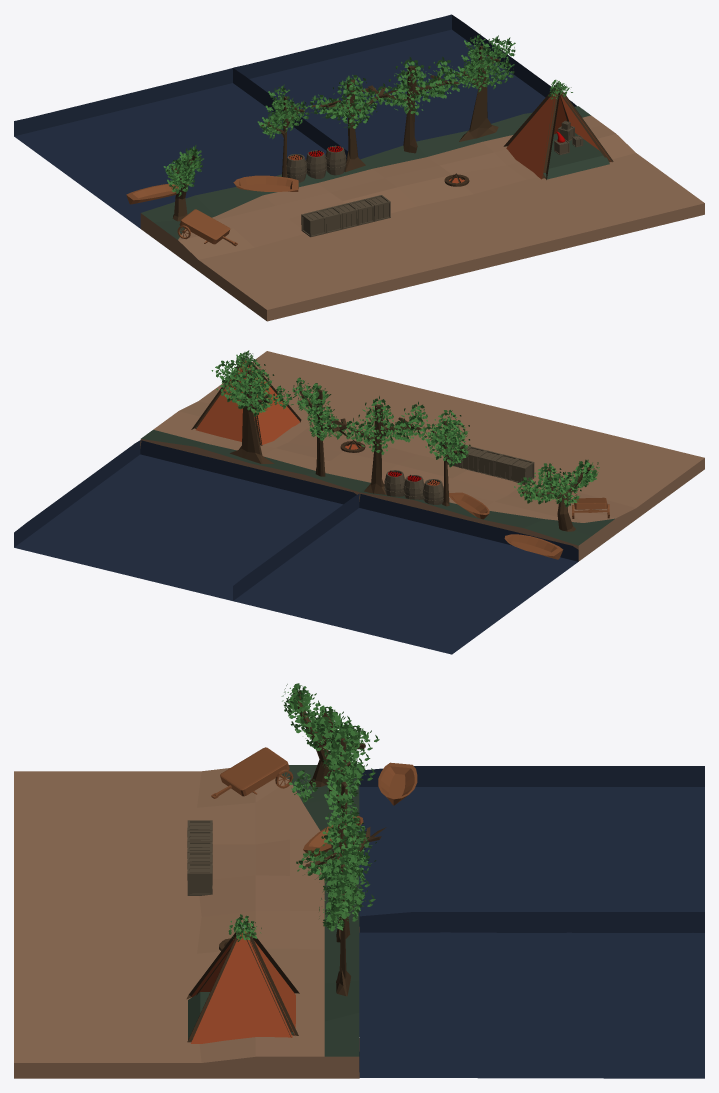
The model's file is BASE DOS CARAS 100_ OFICIAL.fbx.
3 views of the same model, one above another, from view 1: azimuth 30°, elevation 25°; view 2: azimuth 150°, elevation 25°; view 3: azimuth 270°, elevation 25° (orthographic). The views are drawn at different scales.
Parts seen in each view (by area): view 1: Base.009, Base.010, rio.011, rio.012, Plane.003, tronco 3.019, tronco 3.018, plataforma.001, tronco 3.017, barco.004, barco.005, Cube.018 (+1 smaller); view 2: rio.011, rio.012, Base.009, Base.010, Plane.003, tronco 3.019, tronco 3.017, barco.005, tronco.008, tronco 3.018, barco.004, Cube.018; view 3: rio.012, rio.011, Base.010, Base.009, Plane.003, plataforma.001, barco.005, Cube.014, tronco.008, tronco 3.019, tronco 3.018.
Part boxes in pixels (x1,y1,x2,y2): Base.009: (140, 162, 485, 321); Base.010: (360, 106, 704, 267); rio.011: (14, 68, 347, 228); rio.012: (233, 14, 576, 159); Plane.003: (503, 87, 613, 179); tronco 3.019: (457, 45, 500, 141); tronco 3.018: (358, 66, 459, 153); plataforma.001: (179, 209, 230, 244); tronco 3.017: (311, 79, 397, 172); barco.004: (233, 175, 298, 191); barco.005: (126, 184, 188, 204); Cube.018: (301, 210, 326, 237); rio.011: (233, 493, 578, 654); rio.012: (14, 440, 356, 600); Base.009: (359, 404, 704, 561); Base.010: (140, 351, 485, 494); Plane.003: (191, 357, 301, 445); tronco 3.019: (230, 370, 274, 463); tronco 3.017: (323, 404, 421, 494); barco.005: (504, 534, 563, 559); tronco.008: (522, 467, 590, 531); tronco 3.018: (299, 389, 347, 476); barco.004: (449, 492, 489, 519); Cube.018: (509, 458, 534, 484); rio.012: (359, 912, 704, 1078); rio.011: (359, 766, 704, 932); Base.010: (14, 911, 359, 1078); Base.009: (14, 765, 359, 932); Plane.003: (186, 925, 299, 1043); plataforma.001: (220, 747, 289, 796); barco.005: (378, 762, 417, 805); Cube.014: (187, 863, 212, 895); tronco.008: (297, 690, 365, 786); tronco 3.019: (333, 864, 350, 996); tronco 3.018: (305, 822, 386, 942).
Size of the model in its own units: 2001 by 513 by 2002.
45 materials, 45 textured.
